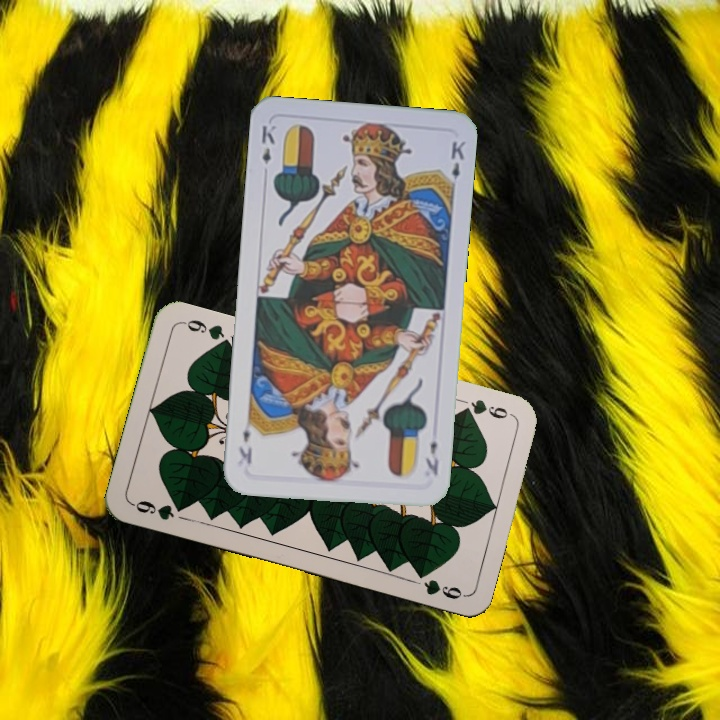EK: (257, 121, 279, 167), (421, 437, 441, 478)
G9: (128, 496, 189, 523), (457, 395, 515, 422)
